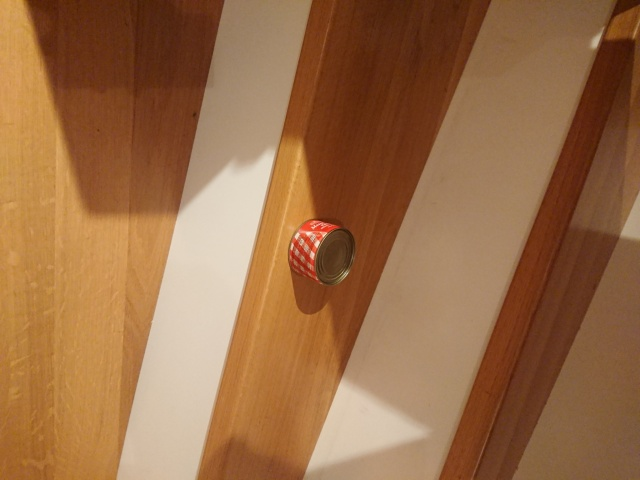Podravka Luncheon Meat 150g: (283, 217, 357, 288)
